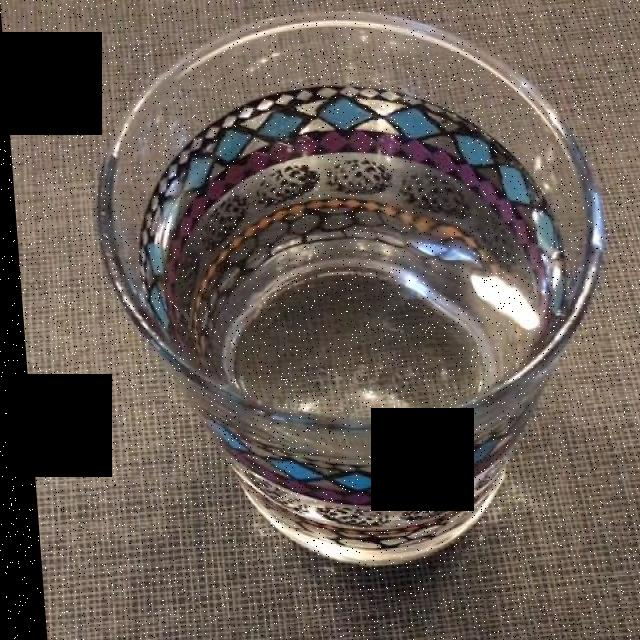water: (192, 162, 541, 418)
